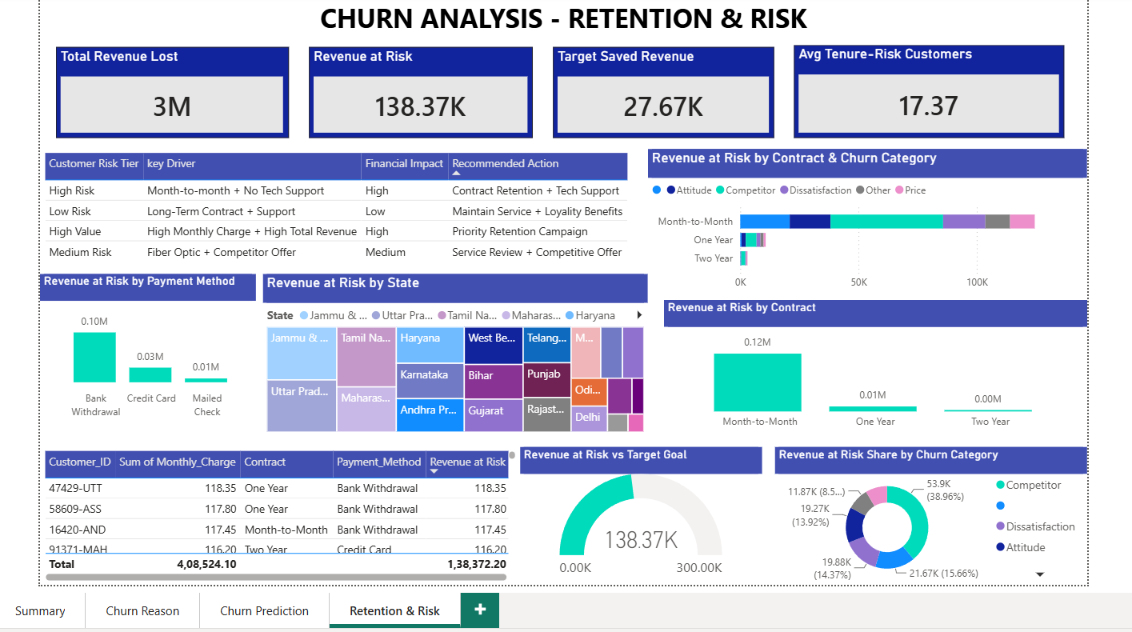

Layout of this report page (visuals, bound fields, positions):
{"tool":"powerbi","page":{"name":"Retention & Risk","canvas":[1280,720],"ordinal":3},"visuals":[{"type":"cardVisual","title":"Total Revenue Lost","fields":{"Data":["Customer_Data.Total Revenue Lost"]},"box":[19.6,62.4,284.9,111.3],"z":0},{"type":"cardVisual","title":"Target Saved Revenue","fields":{"Data":["Customer_Data.Target Retention Saved Revenue"]},"box":[627.3,62.4,270.2,111.3],"z":1000},{"type":"cardVisual","title":"Avg Tenure-Risk Customers","fields":{"Data":["Customer_Data.Avg Tenure - Risk Customers"]},"box":[922,59.9,330.2,113.7],"z":2000},{"type":"clusteredColumnChart","fields":{"Category":["Customer_Data.Contract"],"Y":["Customer_Data.Revenue at Risk"]},"box":[763,371.7,517.3,166.3],"z":3000},{"type":"clusteredColumnChart","title":"Revenue at Risk by Payment Method","fields":{"Category":["Customer_Data.Payment_Method"],"Y":["Customer_Data.Revenue at Risk"]},"box":[0,339.9,264.1,183.4],"z":4000},{"type":"barChart","title":"Revenue at Risk by Contract & Churn Category","fields":{"Category":["Customer_Data.Contract"],"Y":["Customer_Data.Revenue at Risk"],"Series":["Customer_Data.Churn_Category"]},"box":[743.5,187.1,536.8,181],"z":5000},{"type":"treemap","fields":{"Group":["Customer_Data.State"],"Values":["Customer_Data.Revenue at Risk"]},"box":[272.7,339.9,470.8,198.1],"z":6000},{"type":"donutChart","title":"Revenue at Risk Share by Churn Category","fields":{"Category":["Customer_Data.Churn_Category"],"Y":["Customer_Data.Revenue at Risk"]},"box":[898.8,551.5,381.5,168.8],"z":7000},{"type":"gauge","title":"Revenue at Risk vs Target Goal","fields":{"Y":["Customer_Data.Revenue at Risk"]},"box":[587,551.5,295.9,168.8],"z":8000},{"type":"tableEx","fields":{"Values":["Table.Customer Risk Tier","Table.key Driver","Table.Financial Impact","Table.Recommended Action"]},"box":[0,187.1,730,145.5],"z":9000},{"type":"cardVisual","title":"Revenue at Risk","fields":{"Data":["Customer_Data.Revenue at Risk"]},"box":[328.9,62.4,273.9,111.3],"z":10000},{"type":"tableEx","fields":{"Values":["Customer_Data.Customer_ID","Sum(Customer_Data.Monthly_Charge)","Customer_Data.Contract","Customer_Data.Payment_Method","Customer_Data.Revenue at Risk"]},"box":[0,551.5,587,168.8],"z":11000},{"type":"textbox","box":[0,0,1280.3,59.9],"z":12000}]}

Visuals, with their boxes on the page's 1280x720 design canvas (x1, y1, x2, y2). These are canvas units, not pixel positions in the 1132x632 screenshot, which may show the page scaled, cropped or inside an application window:
"Total Revenue Lost" cardVisual: [left=20, top=62, right=304, bottom=174]
"Target Saved Revenue" cardVisual: [left=627, top=62, right=898, bottom=174]
"Avg Tenure-Risk Customers" cardVisual: [left=922, top=60, right=1252, bottom=174]
clusteredColumnChart - Customer_Data.Contract x Customer_Data.Revenue at Risk: [left=763, top=372, right=1280, bottom=538]
"Revenue at Risk by Payment Method" clusteredColumnChart: [left=0, top=340, right=264, bottom=523]
"Revenue at Risk by Contract & Churn Category" barChart: [left=744, top=187, right=1280, bottom=368]
treemap - Customer_Data.State x Customer_Data.Revenue at Risk: [left=273, top=340, right=744, bottom=538]
"Revenue at Risk Share by Churn Category" donutChart: [left=899, top=552, right=1280, bottom=720]
"Revenue at Risk vs Target Goal" gauge: [left=587, top=552, right=883, bottom=720]
tableEx - Table.Customer Risk Tier x Table.key Driver: [left=0, top=187, right=730, bottom=333]
"Revenue at Risk" cardVisual: [left=329, top=62, right=603, bottom=174]
tableEx - Customer_Data.Customer_ID x Sum(Customer_Data.Monthly_Charge): [left=0, top=552, right=587, bottom=720]
textbox: [left=0, top=0, right=1280, bottom=60]
